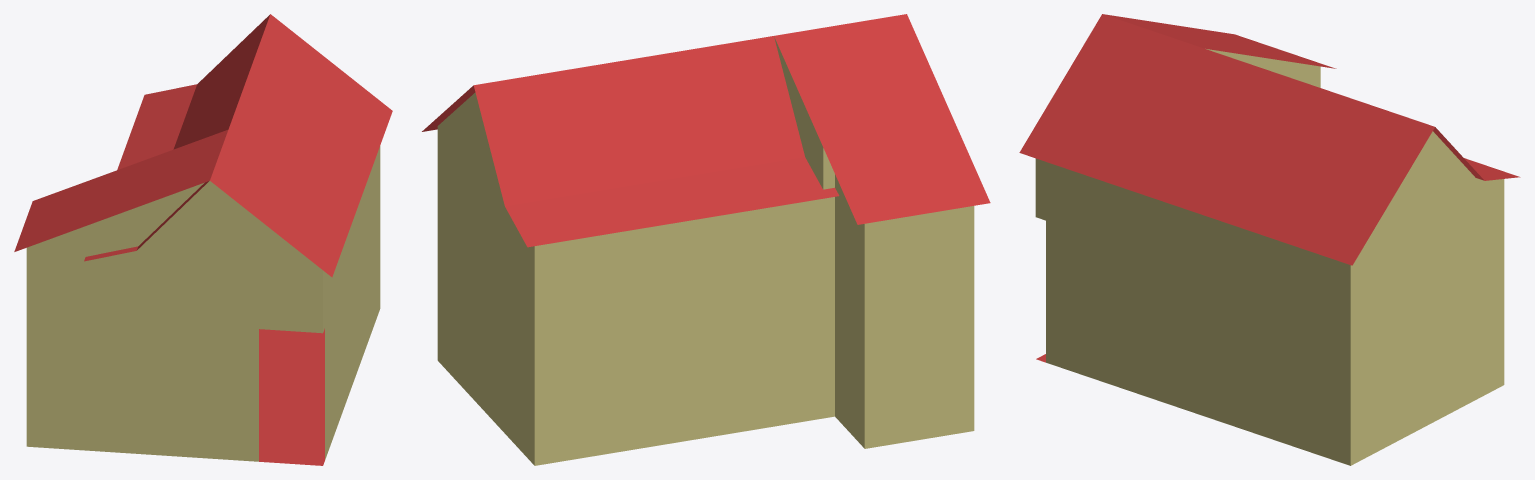
The picture shows the model from 3 angles, left to right: view 1: azimuth 30°, elevation 25°; view 2: azimuth 150°, elevation 25°; view 3: azimuth 270°, elevation 25°; orthographic projection. The views are drawn at different scales.
Size of the model in its own units: 22.97 by 21.49 by 14.3.
